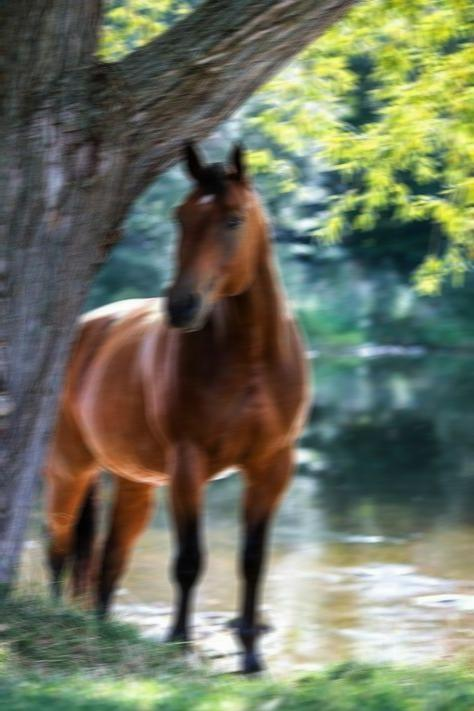horse: (40, 136, 312, 677)
